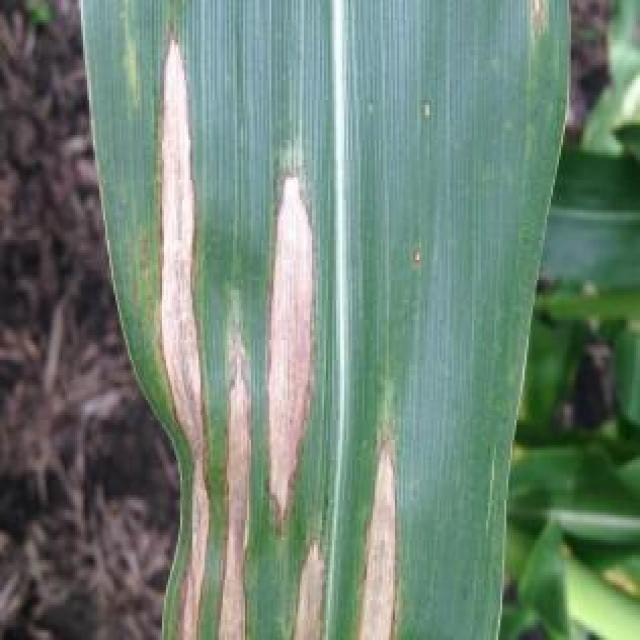blight: (128, 5, 360, 423), (188, 437, 410, 640)
